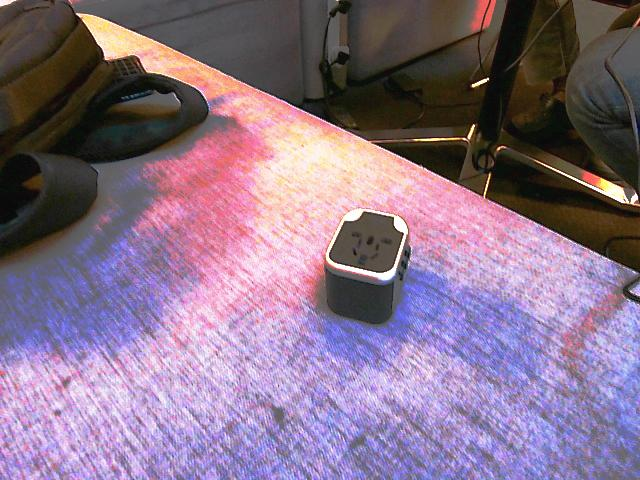adapter: (323, 206, 411, 324)
